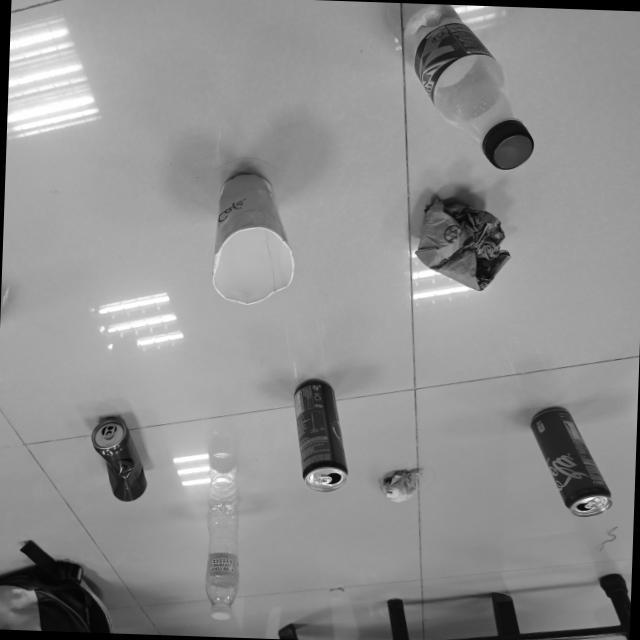recyclable waste: (402, 5, 544, 176), (204, 166, 302, 315), (519, 401, 618, 526), (408, 188, 520, 298), (286, 372, 357, 498), (82, 411, 154, 507), (198, 495, 246, 627), (378, 462, 428, 508)
